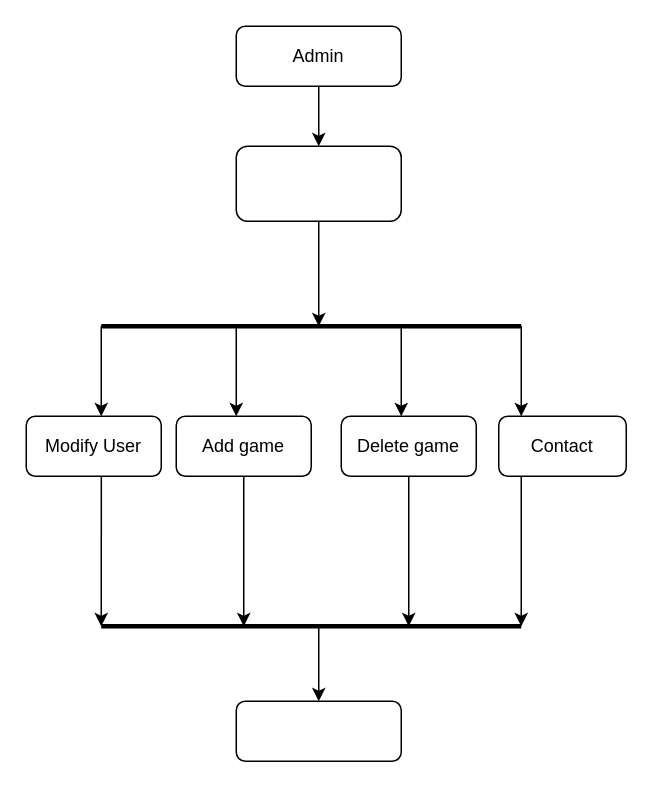
Image size: 653x788. Some labels were removed from this diagram. Each missing label, with the centre of its shape:
"End" belongs at (318,730).
"Login" belongs at (318,183).
